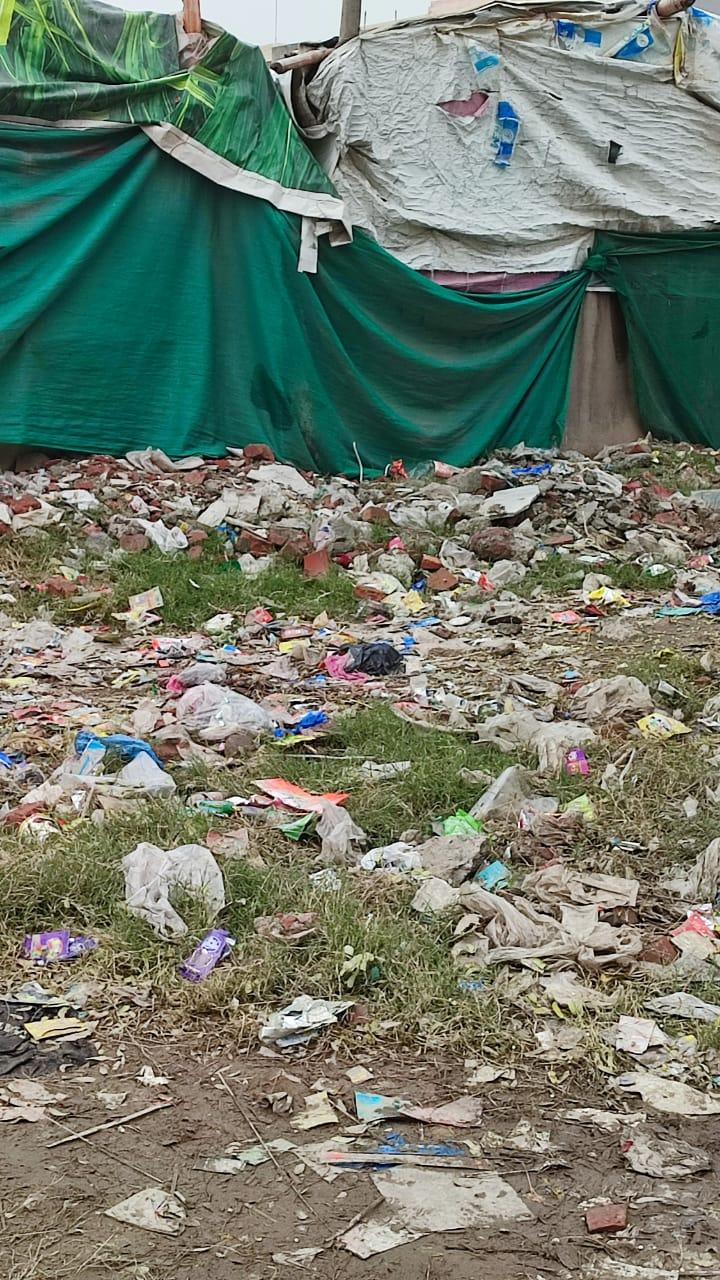garbage: (6, 463, 709, 1143)
